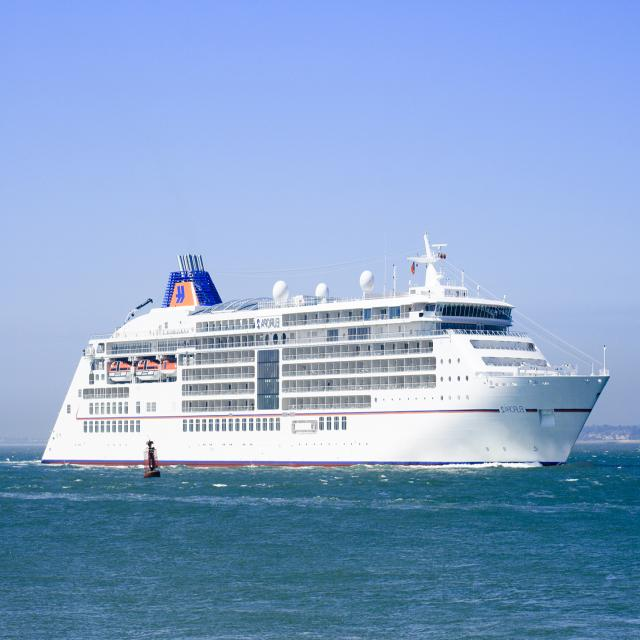buoy: (137, 435, 166, 481)
passenger ship: (40, 228, 610, 464)
